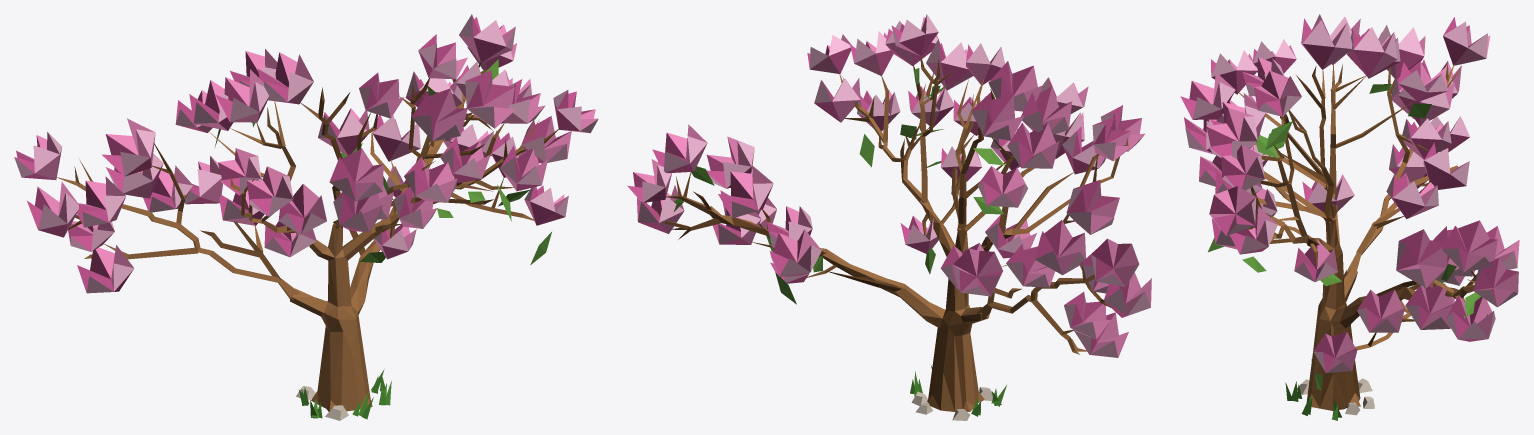
The model's file is magnolia_bloom.glb.
The picture shows the model from 3 angles, left to right: view 1: azimuth 30°, elevation 25°; view 2: azimuth 150°, elevation 25°; view 3: azimuth 270°, elevation 25°; orthographic projection. The views are drawn at different scales.
Parts seen in each view (by area): view 1: magnolia_bloom; view 2: magnolia_bloom; view 3: magnolia_bloom.
Part boxes in pixels (x1,y1,x2,y2): magnolia_bloom: (14,14,598,420); magnolia_bloom: (627,14,1151,420); magnolia_bloom: (1180,14,1519,420).
Size of the model in its own units: 10.32 by 7.01 by 5.98.
